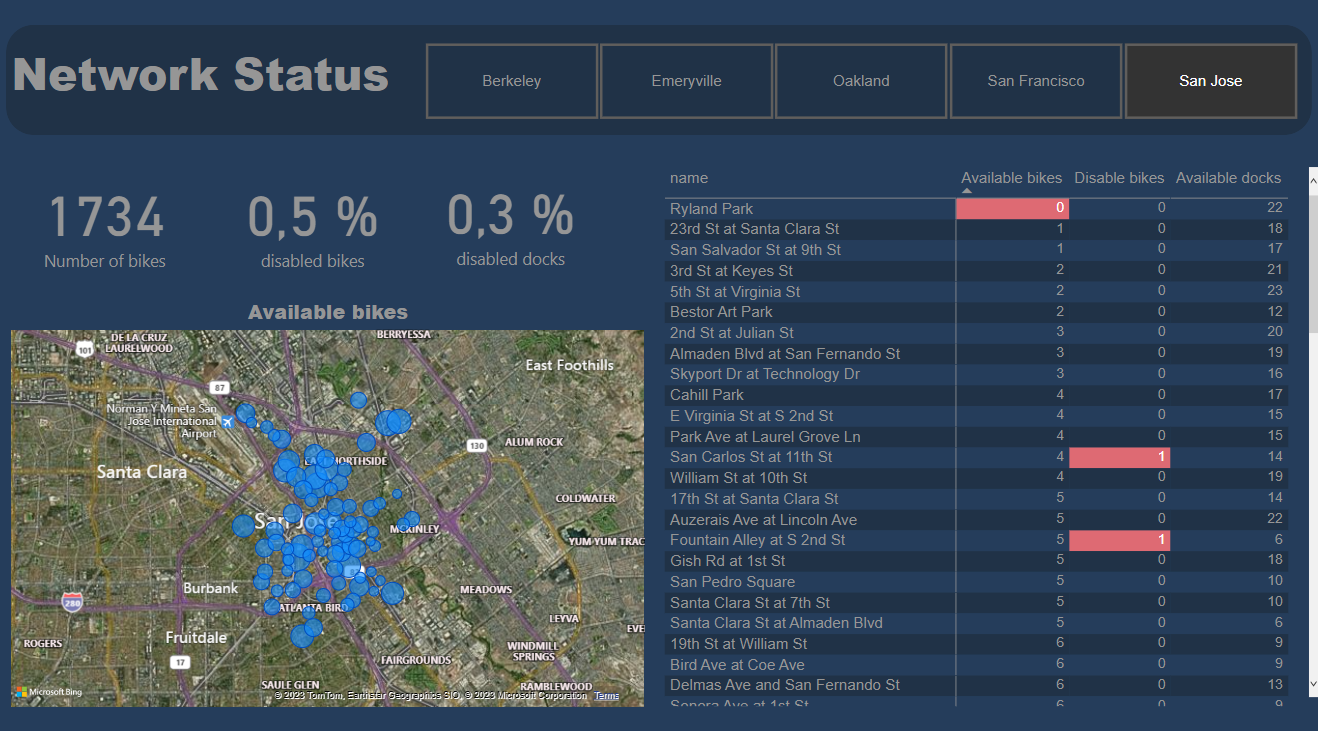

The dashboard page shown, as its layout file describes it:
{"tool":"powerbi","page":{"name":"Page 1","canvas":[1280,720],"ordinal":0},"visuals":[{"type":"shape","box":[10,32.5,1260,106.2],"z":0},{"type":"textbox","box":[10,43.3,426.7,90],"z":1000},{"type":"pivotTable","fields":{"Rows":["Station_info.name"],"Values":["Station_status.num_bikes_available","Station_status.num_bikes_disabled","Station_status.num_docks_available"]},"box":[640,165,640,530],"z":2000},{"type":"map","title":"Available bikes","fields":{"Y":["Coordinates.lat"],"X":["Coordinates.lon"],"Size":["Station_status.num_bikes_available"]},"box":[10,295,621.2,400],"z":3000},{"type":"slicer","fields":{"Values":["Regions.name"]},"box":[388.9,43.3,891.1,86.7],"z":4000},{"type":"card","fields":{"Values":["Station_info.capacity"]},"box":[0,165,210,112.5],"z":5000},{"type":"card","fields":{"Values":["Station_info.Mesuretest"]},"box":[205,161.2,201.2,120],"z":6000},{"type":"card","fields":{"Values":["Station_info.perc_disabled_docks"]},"box":[388.8,157.5,216.2,123.8],"z":7000}]}

Visuals, with their boxes in screenshot pixels (x1, y1, x2, y2), scaled from the page's 1280x720 canvas onto the 1318x731 screenshot:
shape: 10, 33, 1308, 141
textbox: 10, 44, 450, 135
pivotTable - Station_info.name x Station_status.num_bikes_available: 659, 168, 1317, 706
"Available bikes" map: 10, 300, 650, 706
slicer - Regions.name: 400, 44, 1317, 132
card - Station_info.capacity: 0, 168, 216, 282
card - Station_info.Mesuretest: 211, 164, 418, 285
card - Station_info.perc_disabled_docks: 400, 160, 623, 286
